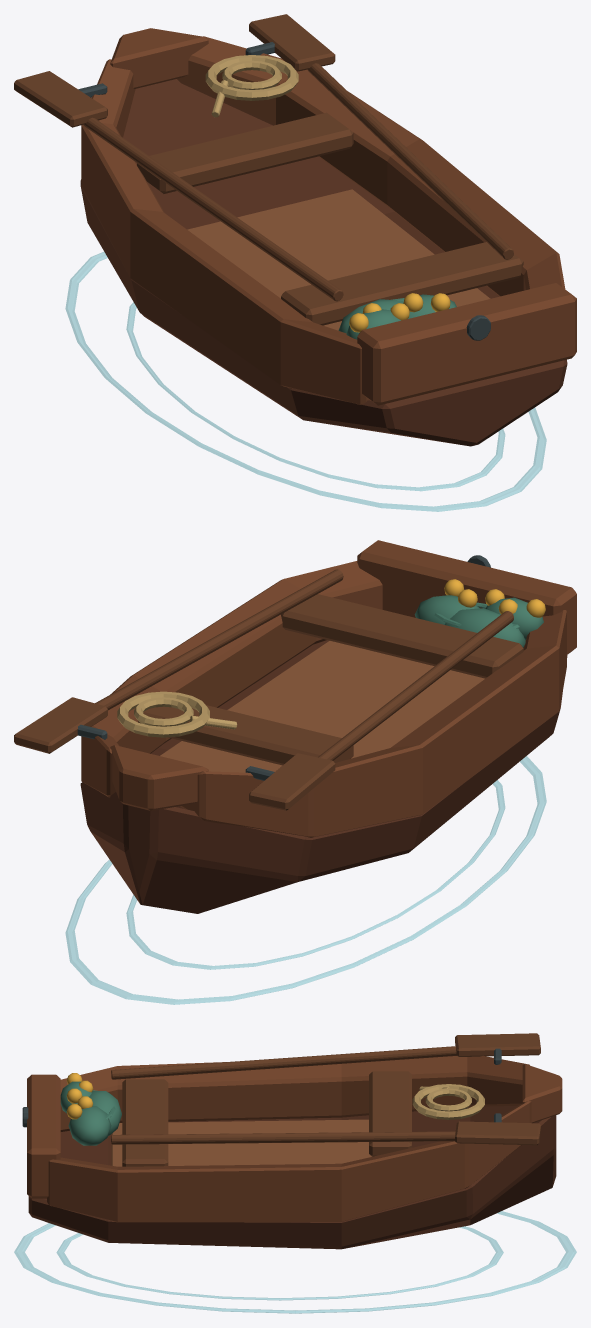
File: FishingBoat.glb
3 views of the same model, one above another, from view 1: azimuth 30°, elevation 25°; view 2: azimuth 150°, elevation 25°; view 3: azimuth 270°, elevation 25° (orthographic). The views are drawn at different scales.
Visible parts, largest first — view 1: FishingBoat_HullWood, FishingBoat_HullWoodDark, FishingBoat_Benches, FishingBoat_InteriorWood, FishingBoat_Oars, FishingBoat_Ripples, FishingBoat_Rope, FishingBoat_Net, FishingBoat_Floats, FishingBoat_Metal; view 2: FishingBoat_HullWood, FishingBoat_HullWoodDark, FishingBoat_InteriorWood, FishingBoat_Benches, FishingBoat_Oars, FishingBoat_Ripples, FishingBoat_Rope, FishingBoat_Net, FishingBoat_Floats, FishingBoat_Metal; view 3: FishingBoat_HullWood, FishingBoat_HullWoodDark, FishingBoat_Oars, FishingBoat_InteriorWood, FishingBoat_Benches, FishingBoat_Ripples, FishingBoat_Net, FishingBoat_Rope, FishingBoat_Floats.
Part boxes in pixels (bbox=[...]): FishingBoat_HullWood: bbox=[81, 28, 576, 405]; FishingBoat_HullWoodDark: bbox=[80, 79, 567, 446]; FishingBoat_Benches: bbox=[137, 112, 523, 325]; FishingBoat_InteriorWood: bbox=[187, 189, 490, 330]; FishingBoat_Oars: bbox=[14, 14, 513, 301]; FishingBoat_Ripples: bbox=[65, 252, 546, 511]; FishingBoat_Rope: bbox=[205, 55, 298, 117]; FishingBoat_Net: bbox=[338, 294, 456, 339]; FishingBoat_Floats: bbox=[349, 293, 450, 332]; FishingBoat_Metal: bbox=[78, 42, 490, 340]; FishingBoat_HullWood: bbox=[81, 540, 576, 837]; FishingBoat_HullWoodDark: bbox=[80, 640, 567, 913]; FishingBoat_InteriorWood: bbox=[160, 641, 484, 772]; FishingBoat_Benches: bbox=[138, 594, 523, 765]; FishingBoat_Oars: bbox=[14, 569, 513, 810]; FishingBoat_Ripples: bbox=[65, 756, 546, 1004]; FishingBoat_Rope: bbox=[117, 691, 237, 737]; FishingBoat_Net: bbox=[414, 595, 543, 647]; FishingBoat_Floats: bbox=[444, 579, 545, 617]; FishingBoat_Metal: bbox=[77, 555, 490, 780]; FishingBoat_HullWood: bbox=[27, 1056, 562, 1222]; FishingBoat_HullWoodDark: bbox=[28, 1106, 556, 1249]; FishingBoat_Oars: bbox=[111, 1033, 540, 1145]; FishingBoat_InteriorWood: bbox=[111, 1119, 371, 1166]; FishingBoat_Benches: bbox=[122, 1071, 411, 1166]; FishingBoat_Ripples: bbox=[14, 1211, 576, 1313]; FishingBoat_Net: bbox=[60, 1081, 121, 1145]; FishingBoat_Rope: bbox=[412, 1084, 484, 1119]; FishingBoat_Floats: bbox=[66, 1073, 93, 1119].
Size of the model in its own units: 0.9424 by 0.6204 by 1.84.
